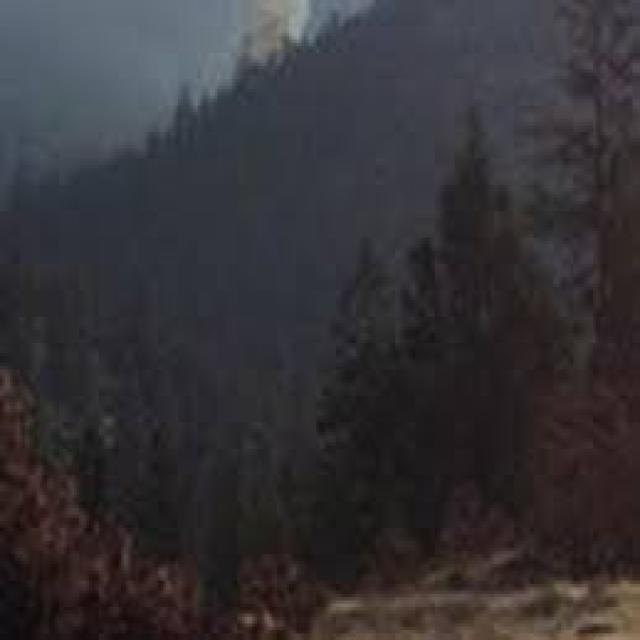Smoke: (198, 0, 316, 81)
